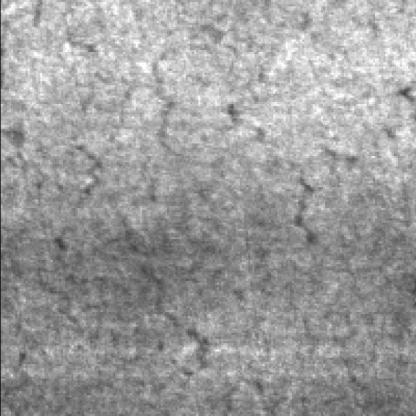crazing: (31, 150, 210, 382), (171, 35, 351, 256)
